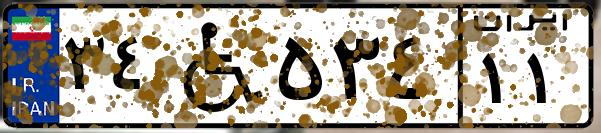1: (475, 38, 525, 113), (525, 38, 570, 115)
3: (330, 28, 385, 110), (57, 26, 110, 100)
4: (385, 28, 445, 110), (110, 28, 158, 98)
5: (270, 28, 330, 110)
ژ (معلولین و جانبازان): (158, 12, 270, 120)
